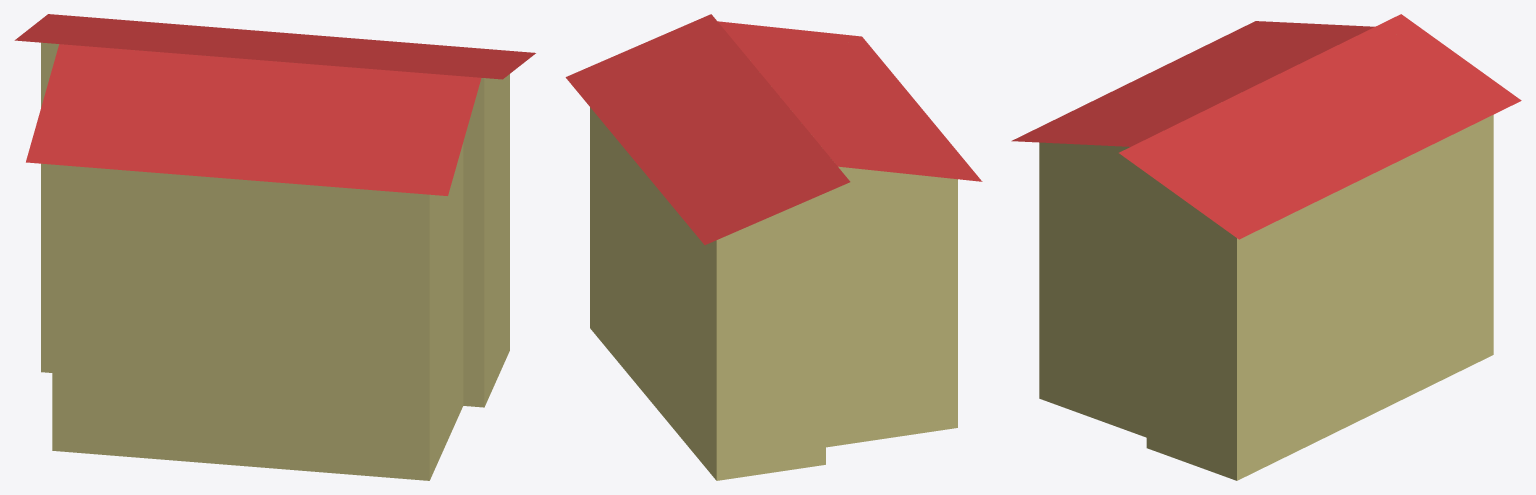
3 views of the same model, side by side, from view 1: azimuth 30°, elevation 25°; view 2: azimuth 150°, elevation 25°; view 3: azimuth 270°, elevation 25° (orthographic). The views are drawn at different scales.
Parts seen in each view (by area): view 1: group_9, group_7, group_5, group_3, group_8; view 2: group_5, group_9, group_3, group_7, group_8, group_4; view 3: group_5, group_3, group_9, group_7, group_8, group_4.
Part boxes in pixels (<box>): group_9: <box>52,158,458,480</box>; group_7: <box>26,44,480,195</box>; group_5: <box>41,42,509,414</box>; group_3: <box>15,14,535,79</box>; group_8: <box>26,44,481,195</box>; group_5: <box>590,107,831,480</box>; group_9: <box>831,166,957,446</box>; group_3: <box>565,14,850,244</box>; group_7: <box>718,22,981,181</box>; group_8: <box>718,21,982,181</box>; group_4: <box>758,161,849,212</box>; group_5: <box>1143,115,1493,480</box>; group_3: <box>1119,14,1521,239</box>; group_9: <box>1039,142,1143,436</box>; group_7: <box>1040,21,1369,140</box>; group_8: <box>1012,21,1374,146</box>; group_4: <box>1387,14,1460,72</box>.
Bounding box in the file's own units: 18.97 × 19.18 × 12.27.
